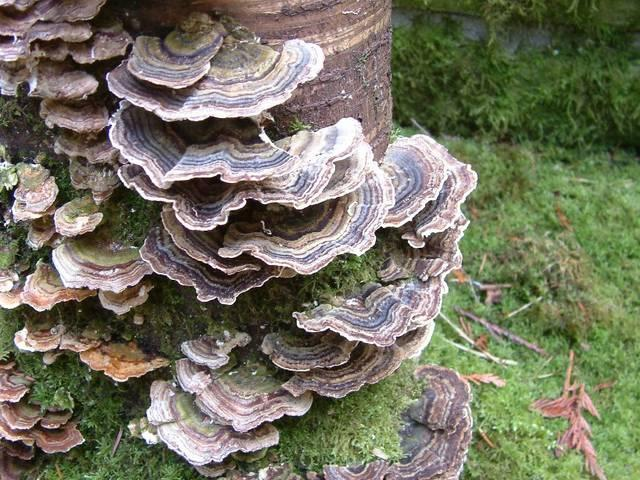poisonous_mushroom: (0, 2, 479, 478)
